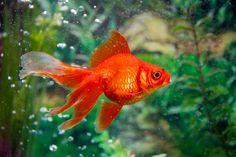goldfish: (43, 40, 183, 129)
